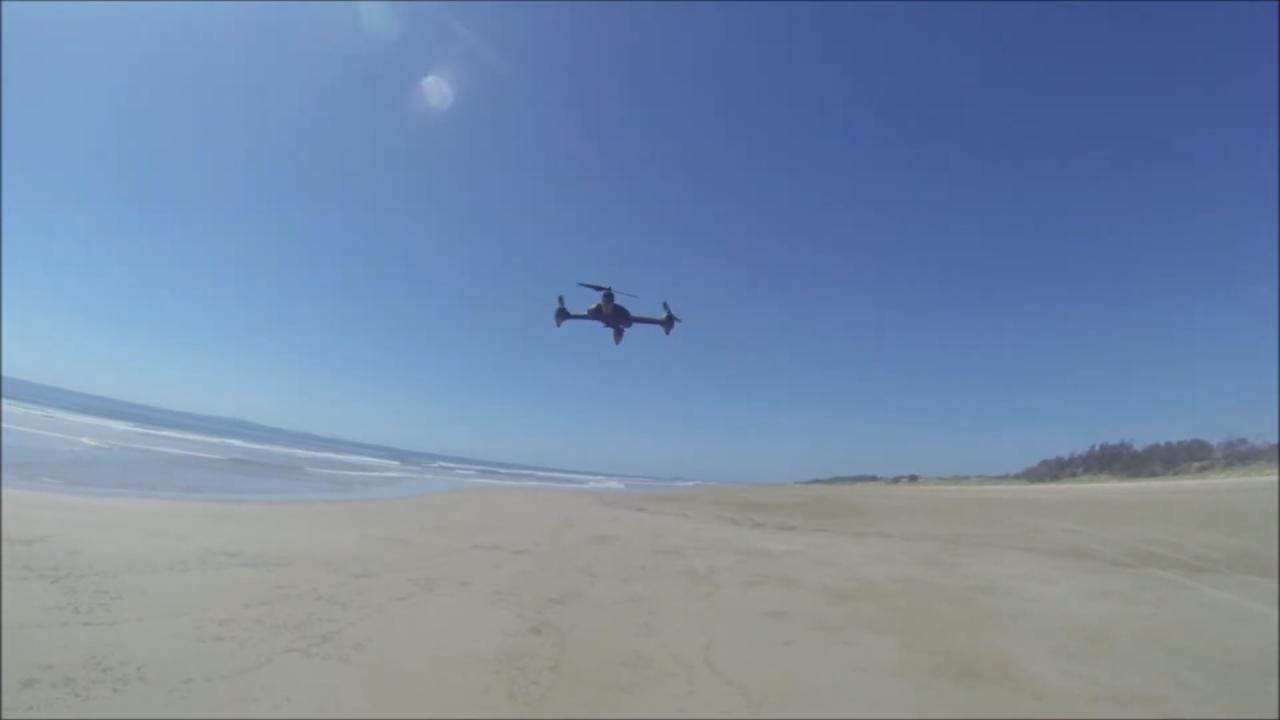Drone: (538, 268, 694, 356)
